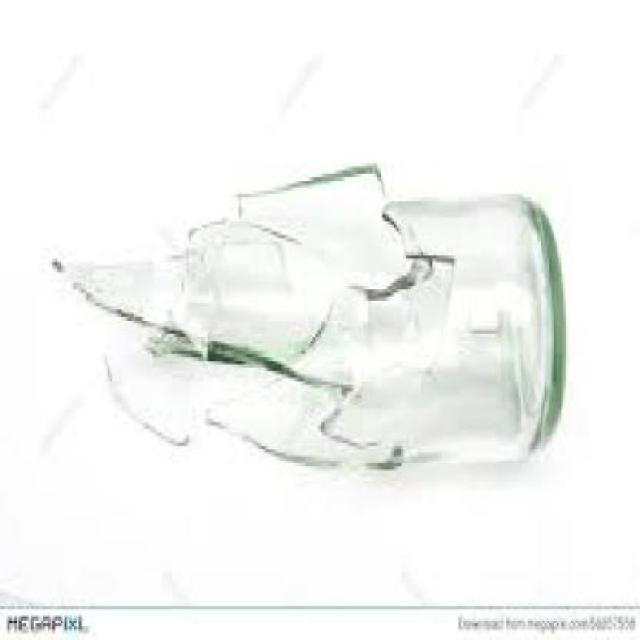kaca: (48, 160, 566, 474), (316, 191, 562, 463), (151, 218, 334, 378), (232, 163, 394, 286), (208, 378, 402, 469), (52, 250, 211, 358), (100, 348, 195, 446)
